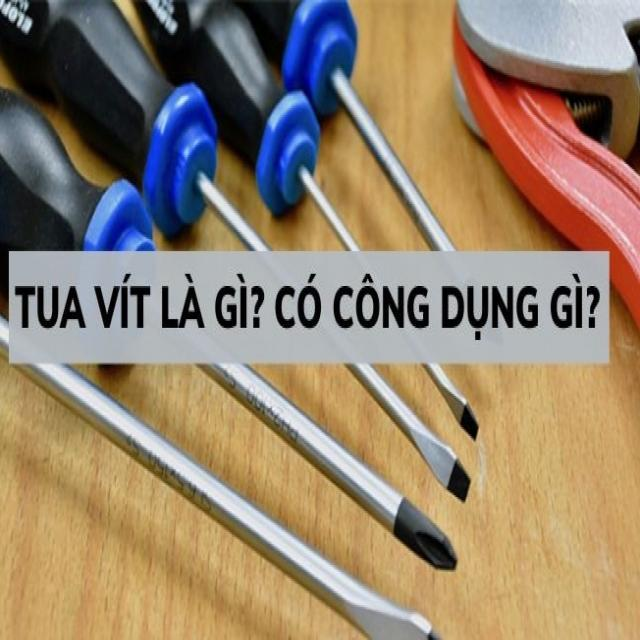screwdriver: (0, 0, 474, 507), (0, 82, 464, 578), (142, 0, 485, 446)
